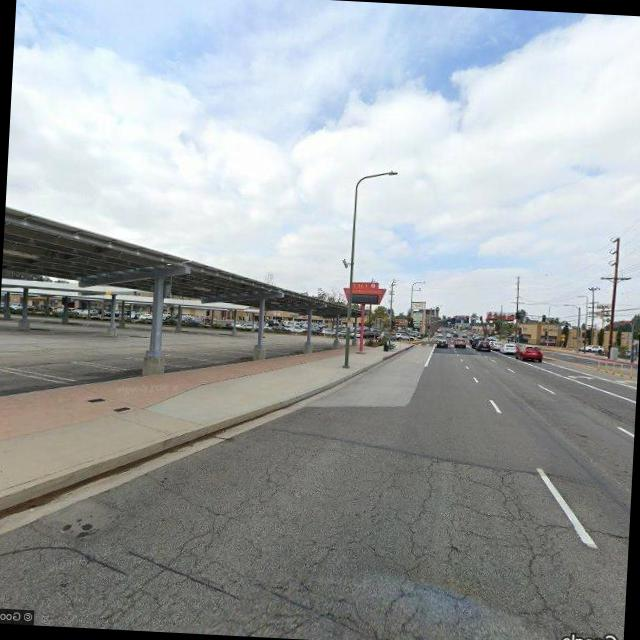crack: (0, 439, 625, 640)
